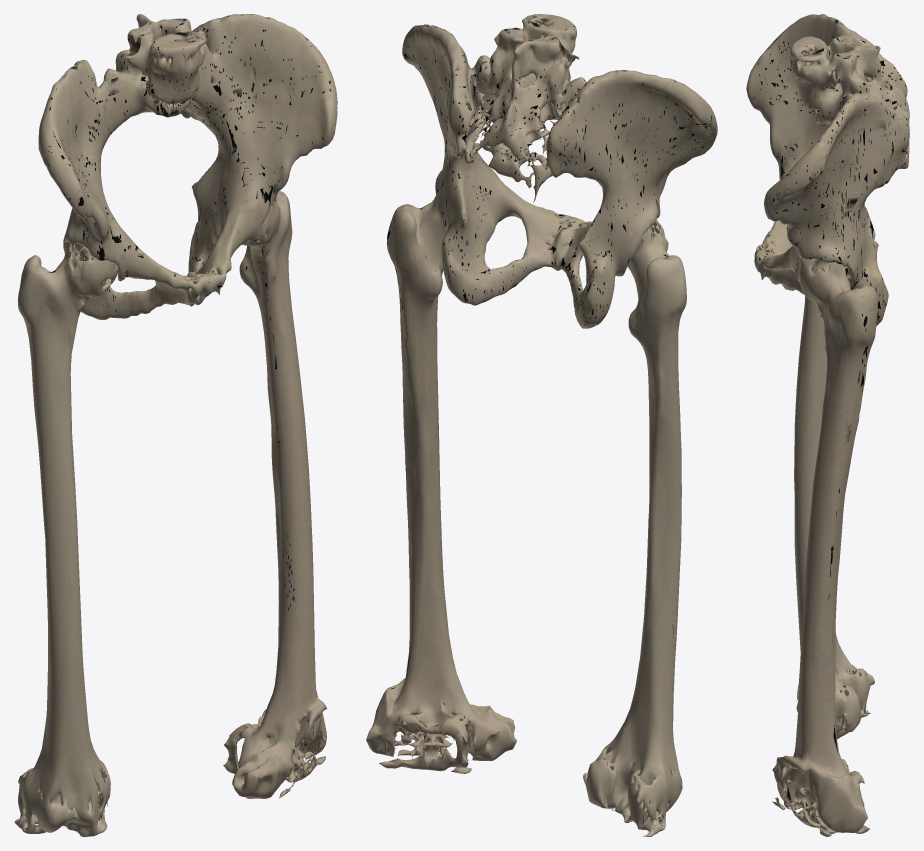
The model's file is berjalan-tegak.glb.
The picture shows the model from 3 angles, left to right: view 1: azimuth 30°, elevation 25°; view 2: azimuth 150°, elevation 25°; view 3: azimuth 270°, elevation 25°; orthographic projection. The views are drawn at different scales.
Parts seen in each view (by area): view 1: Object_7, Object_3, Object_5, Object_2, Object_4, Object_6; view 2: Object_5, Object_7, Object_2, Object_3, Object_4, Object_6; view 3: Object_5, Object_2, Object_3, Object_7, Object_6, Object_4.
Boxes of the visible parts, box(x1,y1,x2,y2) form: Object_7: box(14, 242, 118, 836); Object_3: box(38, 25, 337, 317); Object_5: box(223, 190, 327, 798); Object_2: box(48, 14, 309, 318); Object_4: box(38, 56, 337, 319); Object_6: box(239, 213, 313, 613); Object_5: box(366, 196, 516, 773); Object_7: box(583, 219, 686, 836); Object_2: box(402, 14, 675, 321); Object_3: box(402, 25, 717, 328); Object_4: box(406, 46, 717, 328); Object_6: box(387, 225, 443, 594); Object_5: box(772, 258, 877, 836); Object_2: box(789, 14, 909, 325); Object_3: box(747, 14, 890, 303); Object_7: box(794, 296, 874, 739); Object_6: box(800, 293, 877, 672); Object_4: box(746, 40, 909, 324).
Bounding box in the file's own units: 272 × 658 × 134.
3 materials, 3 textured.
